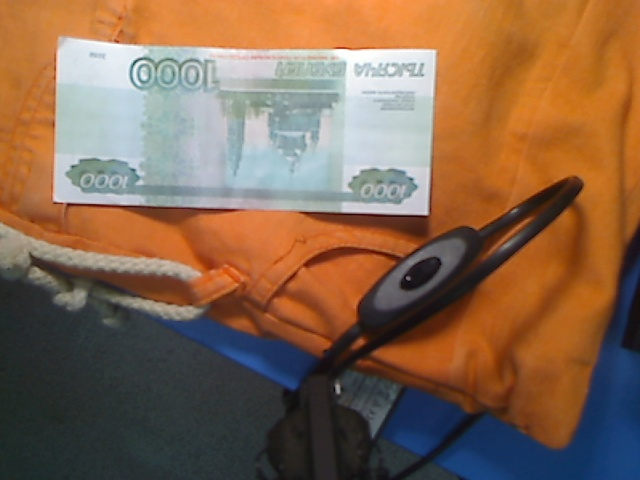banknotes: (53, 33, 434, 218)
